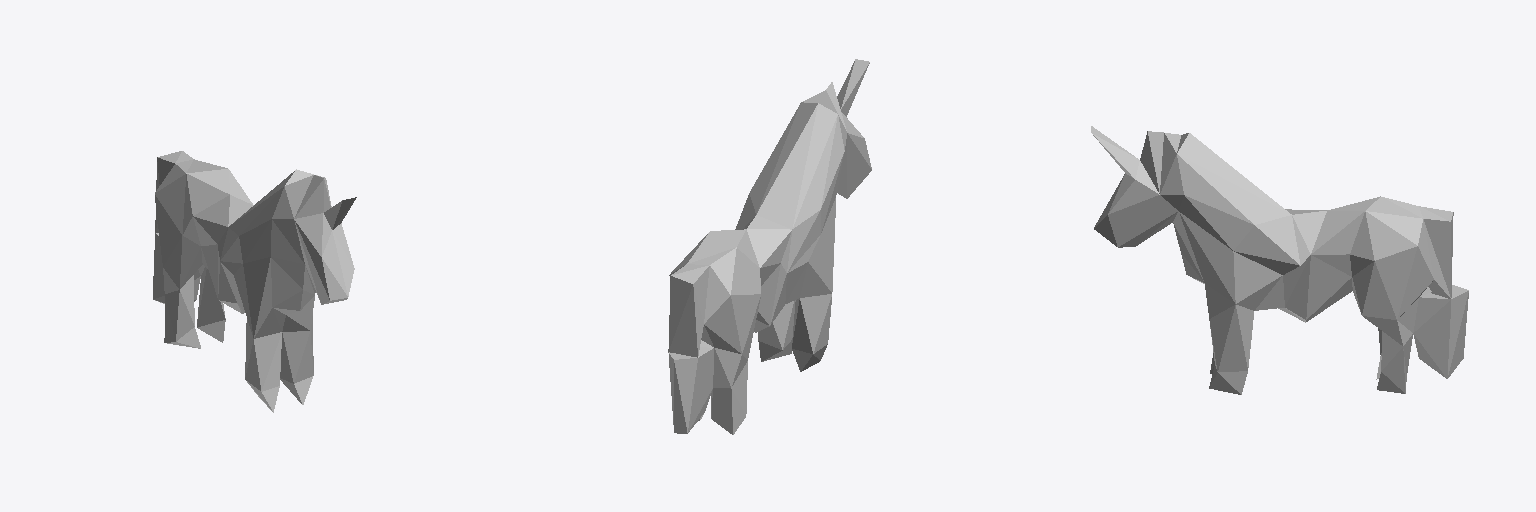
3 renders of one model, left to right at view 1: azimuth 30°, elevation 25°; view 2: azimuth 150°, elevation 25°; view 3: azimuth 270°, elevation 25°, orthographic.
Parts seen in each view (by area): view 1: unknown; view 2: unknown; view 3: unknown.
Part boxes in pixels (left/top/right/bottom): unknown: left=153, top=151, right=356, bottom=412; unknown: left=668, top=59, right=871, bottom=434; unknown: left=1091, top=126, right=1468, bottom=394.
Bounding box in the file's own units: 0.2113 × 0.7358 × 0.9941.